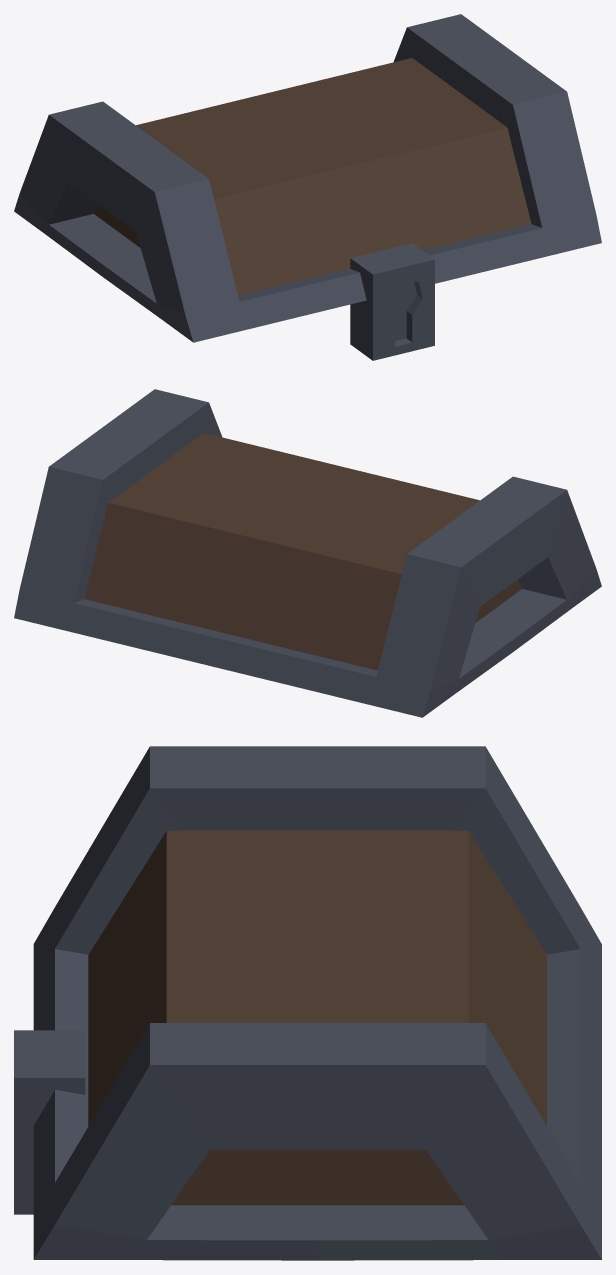
Rendered from chest_top.fbx.
3 views of the same model, one above another, from view 1: azimuth 30°, elevation 25°; view 2: azimuth 150°, elevation 25°; view 3: azimuth 270°, elevation 25° (orthographic). The views are drawn at different scales.
Parts seen in each view (by area): view 1: chest_top; view 2: chest_top; view 3: chest_top.
Boxes of the visible parts, left/top/right/bottom form: chest_top: left=14, top=14, right=601, bottom=360; chest_top: left=14, top=389, right=601, bottom=717; chest_top: left=14, top=746, right=601, bottom=1260.
Bounding box in the file's own units: 101 × 42 × 78.51.
